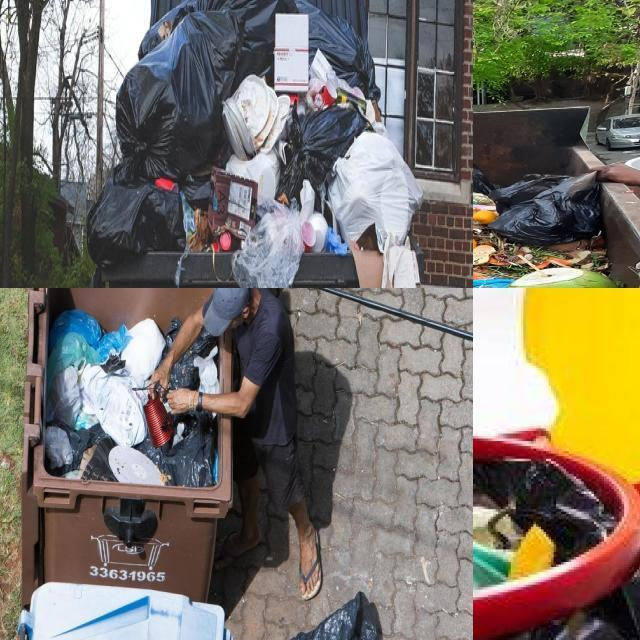Disposable: (222, 76, 290, 159), (309, 212, 328, 252), (322, 81, 337, 106)
Garbage: (87, 0, 423, 288), (45, 310, 216, 487), (473, 163, 620, 288), (168, 333, 219, 394)
Plastic: (143, 394, 174, 448)
Plastic_Bag: (117, 17, 222, 182), (328, 131, 423, 252), (192, 0, 296, 100), (276, 106, 366, 209), (87, 179, 185, 266), (296, 0, 381, 100), (490, 173, 601, 246), (233, 200, 303, 288), (138, 411, 216, 487), (78, 365, 146, 447), (49, 310, 132, 362), (45, 419, 108, 475), (48, 333, 101, 393), (122, 320, 165, 387), (169, 331, 216, 390), (46, 365, 82, 427), (109, 446, 163, 486), (193, 346, 220, 394), (45, 427, 73, 469), (163, 318, 182, 359), (473, 279, 515, 288), (473, 192, 496, 206)
